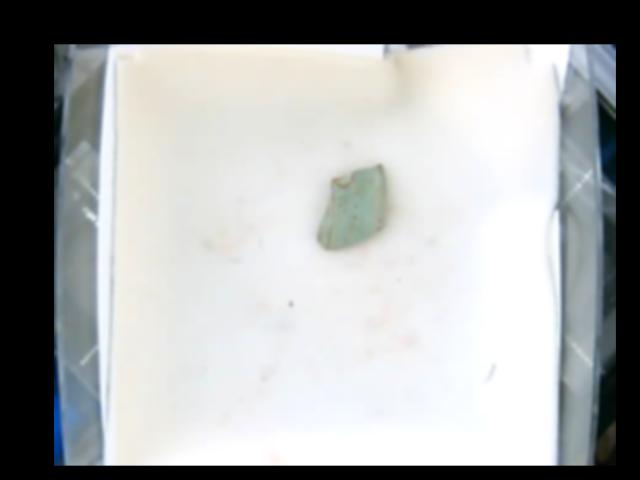China: (313, 163, 389, 254)
